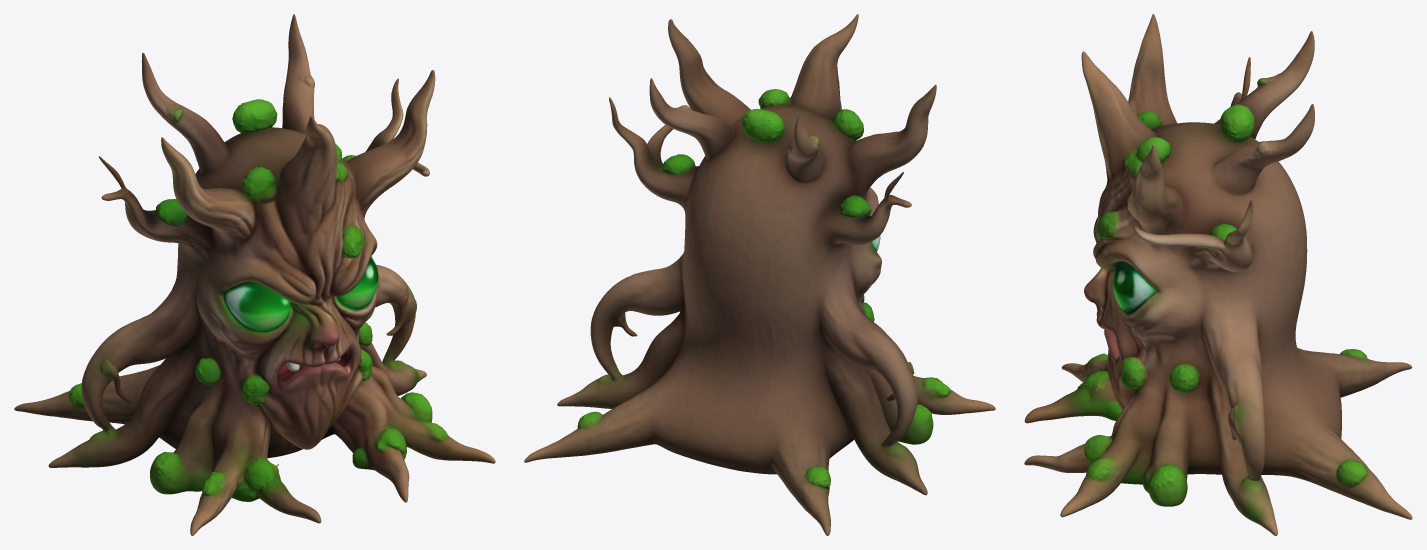
Rendered from BOSS_TREE_DEMON_01.glb.
3 renders of one model, left to right at view 1: azimuth 30°, elevation 25°; view 2: azimuth 150°, elevation 25°; view 3: azimuth 270°, elevation 25°, orthographic. The views are drawn at different scales.
Parts seen in each view (by area): view 1: model; view 2: model; view 3: model.
Boxes of the visible parts, <box> form: model: <box>14,14,495,535</box>; model: <box>524,14,995,535</box>; model: <box>1024,14,1412,535</box>.
Bounding box in the file's own units: 1.89 × 1.85 × 1.68.
1 material, 1 textured.
